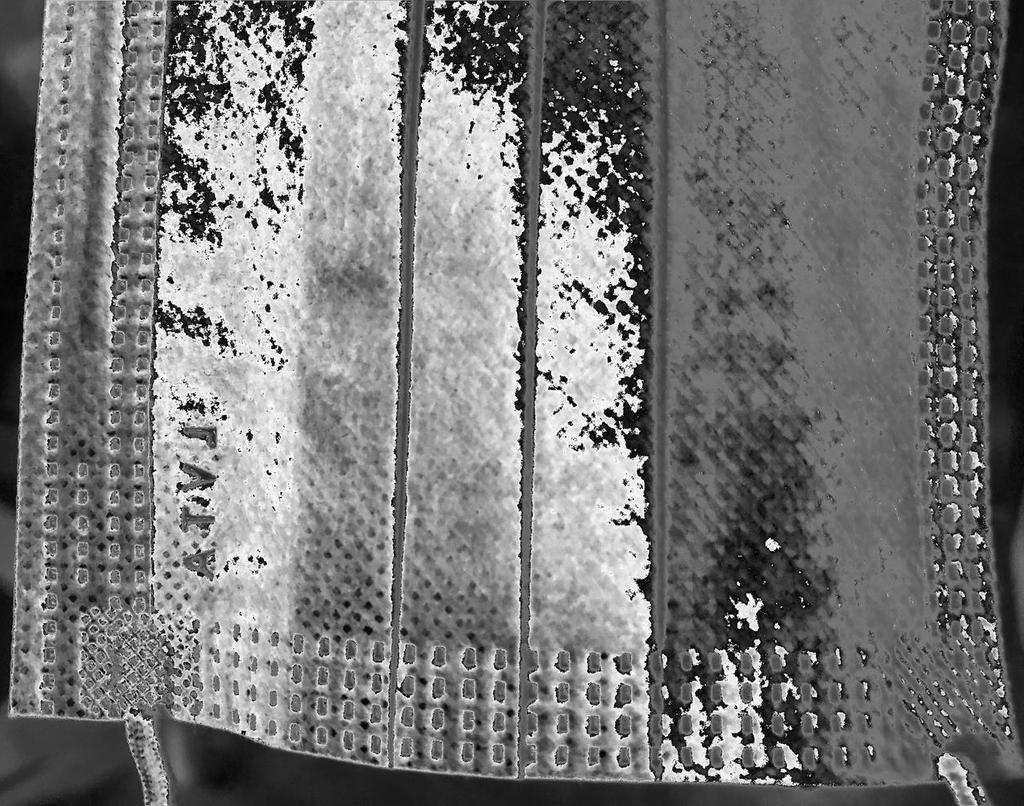High GSM: (164, 3, 639, 643)
